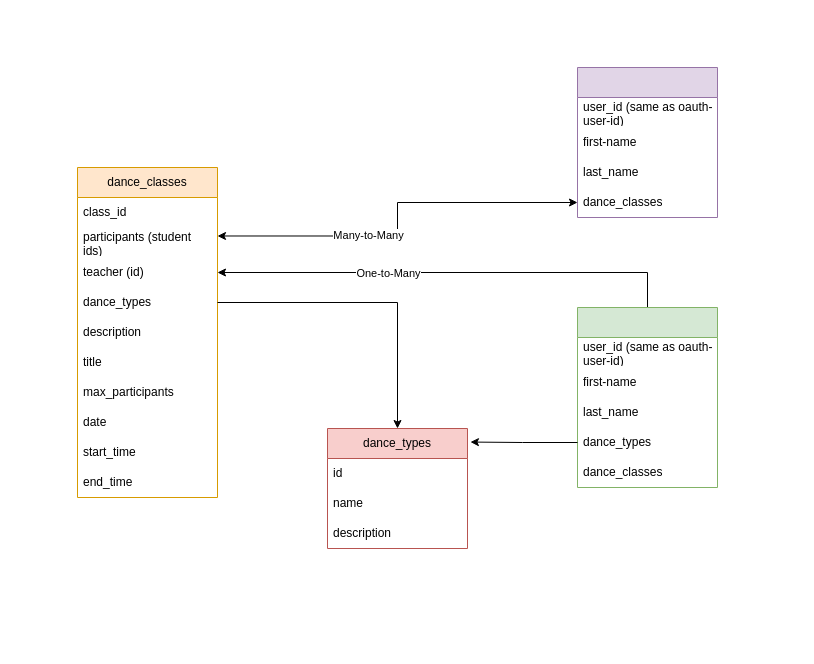
Some shapes in this 814 by 664 pixel diagram are drawn without their labels. The box of each missing label's shape, as (x1, y1, x2, y2) in pixels:
students: (576, 66, 718, 218)
Teachers: (576, 306, 718, 488)
